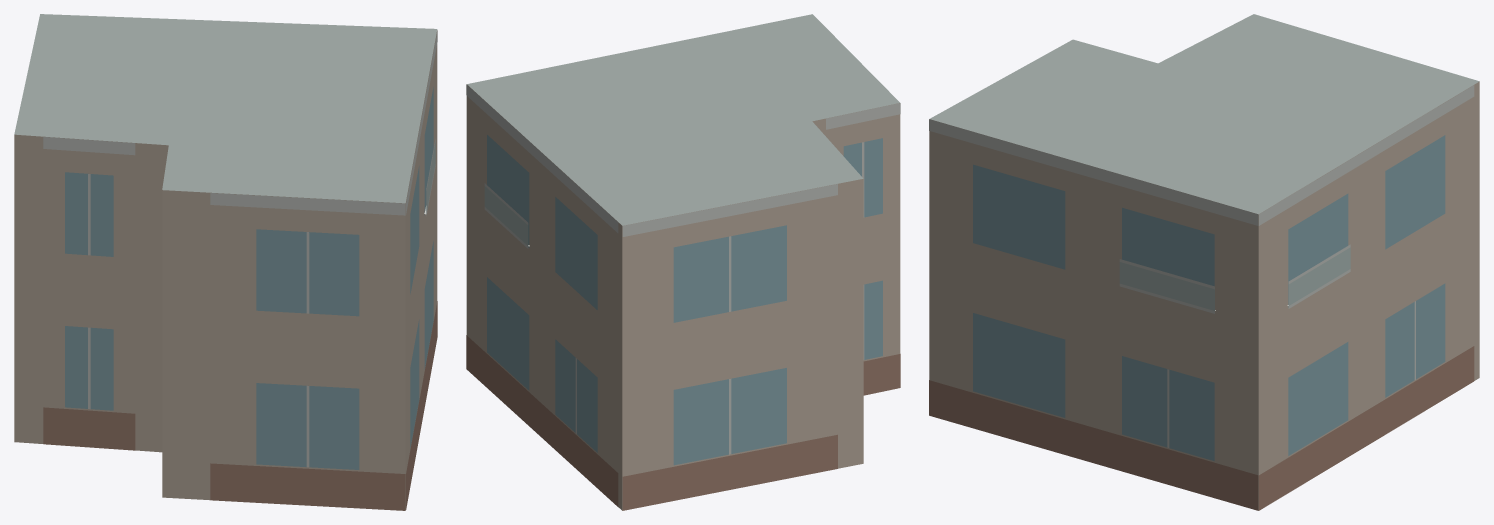
The model's file is survey-upis-32564181.glb.
3 views of the same model, side by side, from view 1: azimuth 30°, elevation 25°; view 2: azimuth 150°, elevation 25°; view 3: azimuth 270°, elevation 25° (orthographic). The views are drawn at different scales.
Parts seen in each view (by area): view 1: survey-upis-32564181.tmp; view 2: survey-upis-32564181.tmp; view 3: survey-upis-32564181.tmp.
Boxes of the visible parts, left/top/right/bottom form: survey-upis-32564181.tmp: left=14, top=14, right=437, bottom=510; survey-upis-32564181.tmp: left=466, top=14, right=900, bottom=510; survey-upis-32564181.tmp: left=929, top=14, right=1479, bottom=510.
Bounding box in the file's own units: 8.84 × 6.1 × 10.27.
